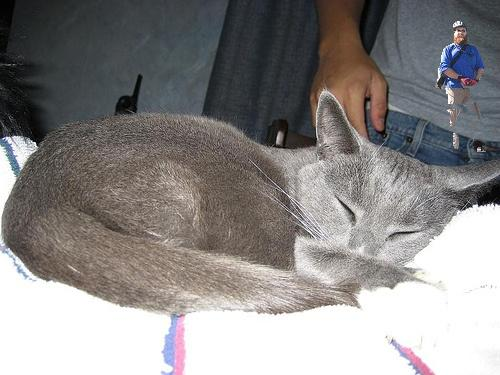tampered: (435, 22, 489, 152)
